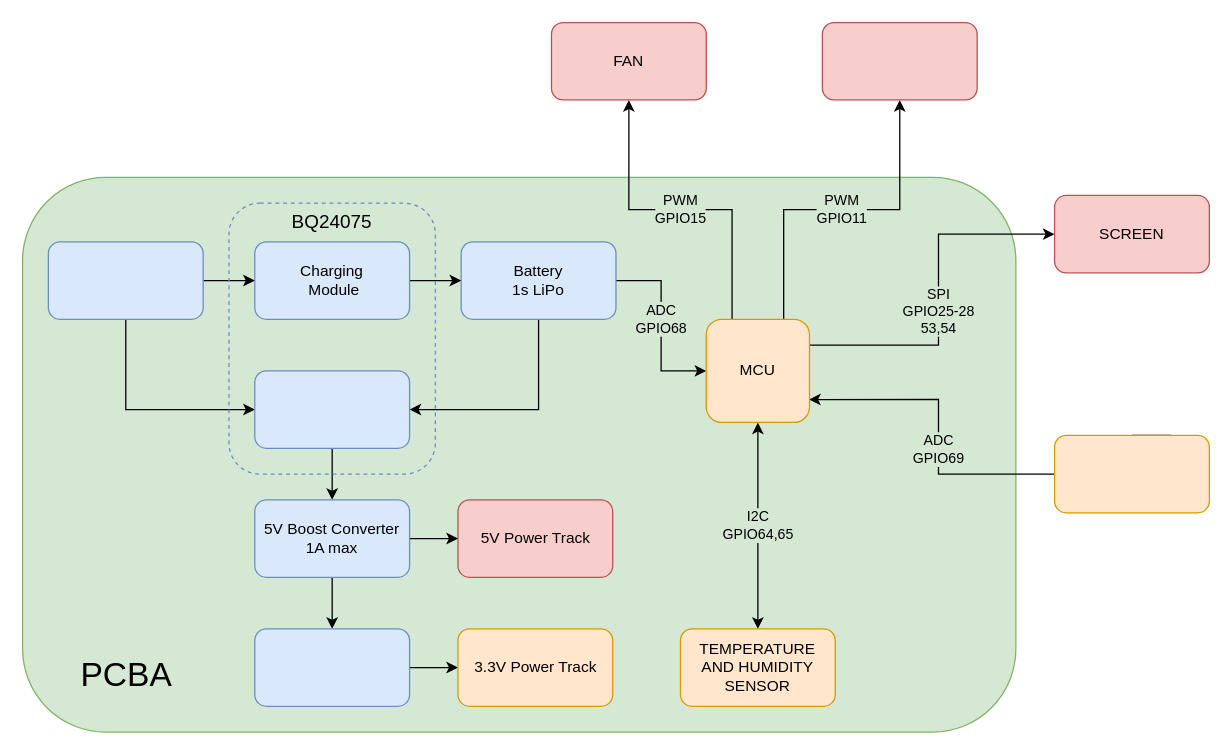
Some shapes in this 1232 by 755 pixel diagram are drawn without their labels. Here are the shapes that lost their labels. From the top down, the centre of each, then its label:
(899,60): LED
(125,280): External Power Supply
(331,409): Power Switcher
(1131,473): PHOTORESISTOR
(331,667): 3.3V LDO 200mA max
